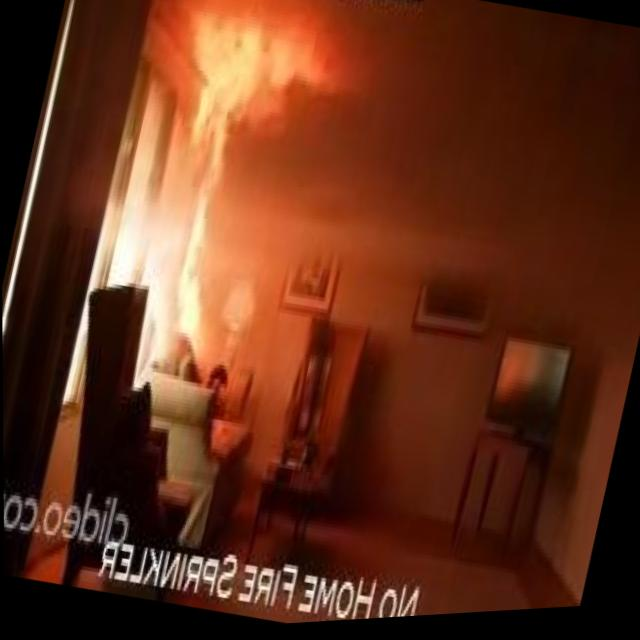fire: (174, 0, 338, 148), (163, 121, 247, 340)
